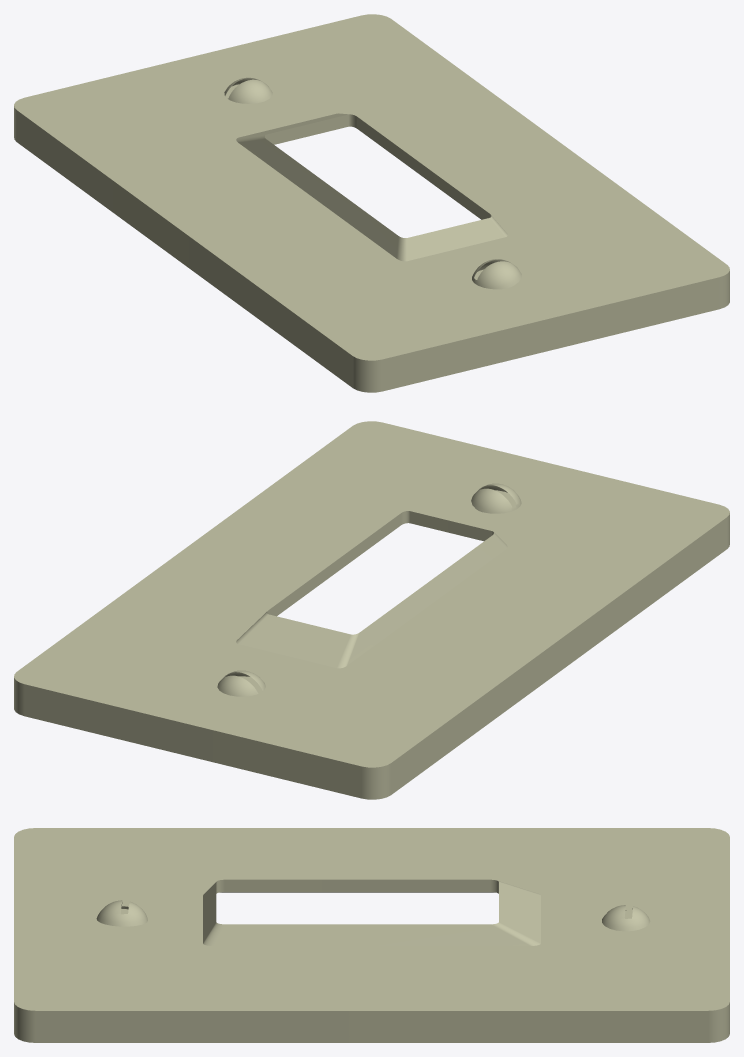
The model's file is 2plate.fbx.
3 views of the same model, one above another, from view 1: azimuth 30°, elevation 25°; view 2: azimuth 150°, elevation 25°; view 3: azimuth 270°, elevation 25° (orthographic).
Parts seen in each view (by area): view 1: polySurface1; view 2: polySurface1; view 3: polySurface1.
Boxes of the visible parts, box(x1,y1,x2,y2) form: polySurface1: box(14, 14, 729, 392); polySurface1: box(14, 421, 729, 799); polySurface1: box(14, 828, 729, 1042).
Bounding box in the file's own units: 4.02 × 0.5019 × 6.65.
